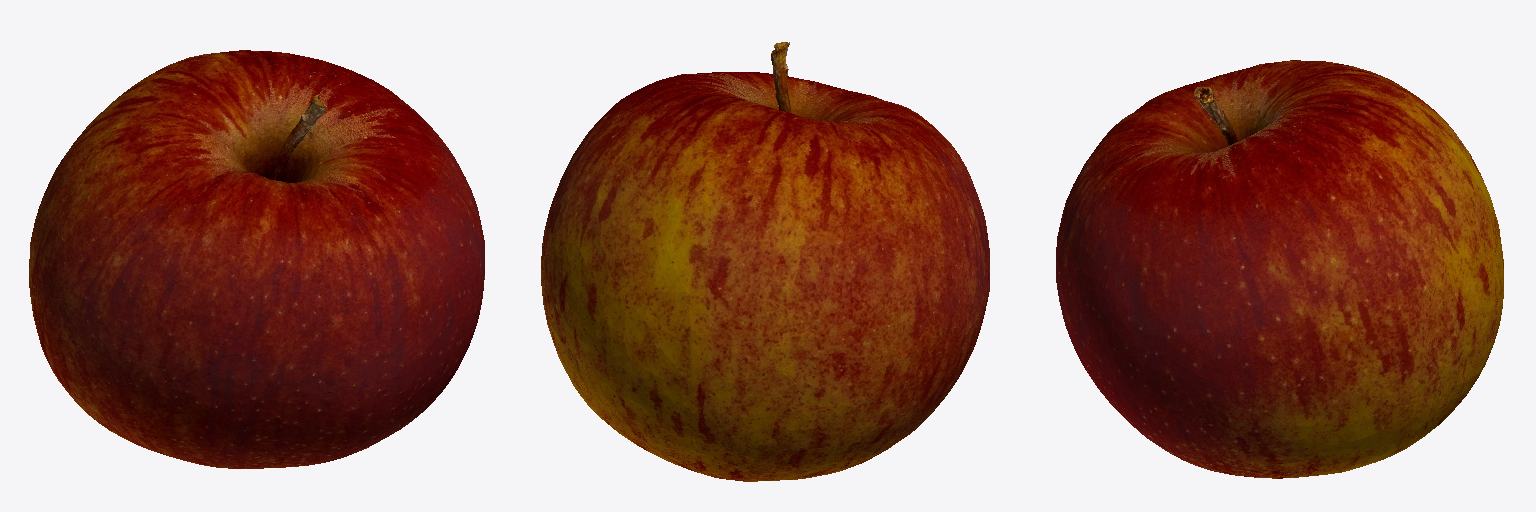
3 renders of one model, left to right at view 1: azimuth 30°, elevation 25°; view 2: azimuth 150°, elevation 25°; view 3: azimuth 270°, elevation 25°, orthographic.
Visible parts, largest first — view 1: food_apple_01_apple_50k_uv.001; view 2: food_apple_01_apple_50k_uv.001; view 3: food_apple_01_apple_50k_uv.001.
Part boxes in pixels (bbox=[...]): food_apple_01_apple_50k_uv.001: bbox=[29, 50, 484, 468]; food_apple_01_apple_50k_uv.001: bbox=[541, 42, 989, 481]; food_apple_01_apple_50k_uv.001: bbox=[1056, 60, 1503, 478].
Bounding box in the file's own units: 0.0976 × 0.0854 × 0.0959.
Materials: 1 (1 with a texture image).